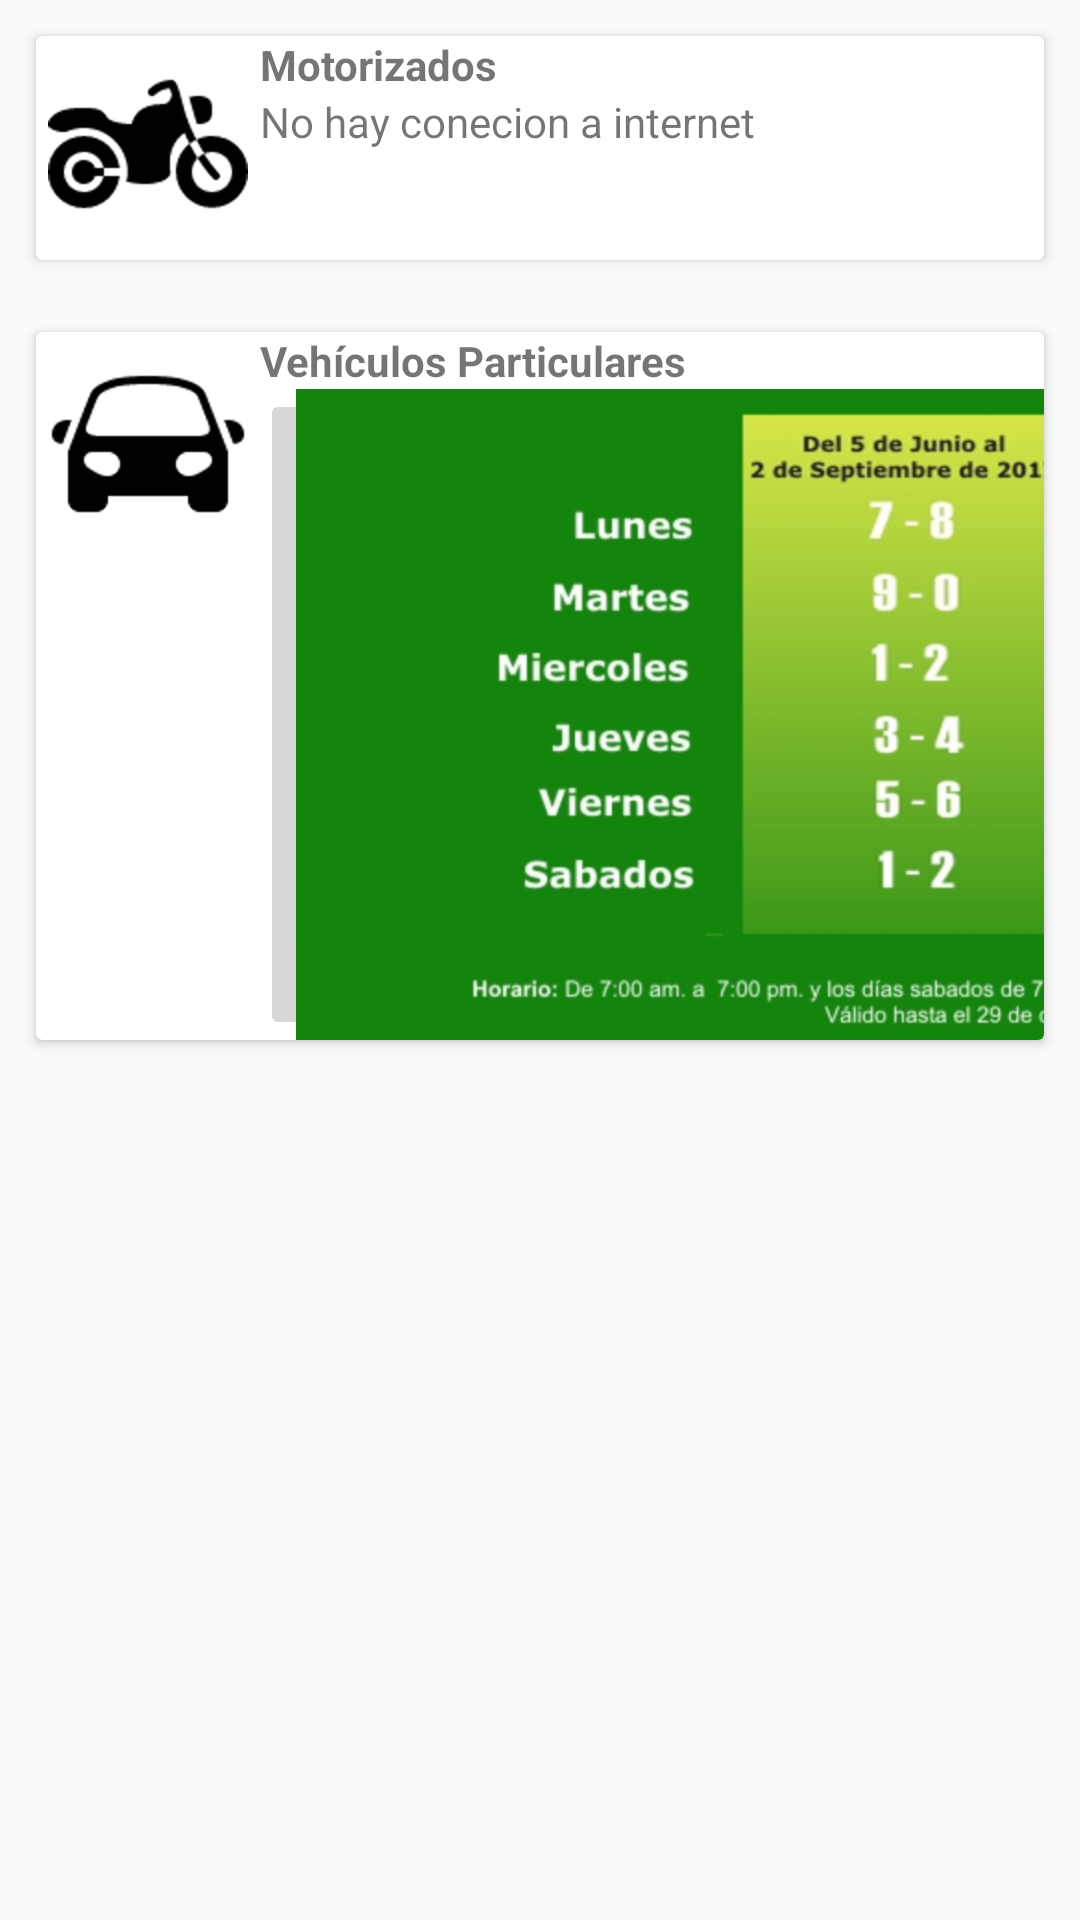

Screen size 1080x1920. Icon name, then its center in pixels as [x,y]:
car: [148,444]
motorcycle: [148,144]
